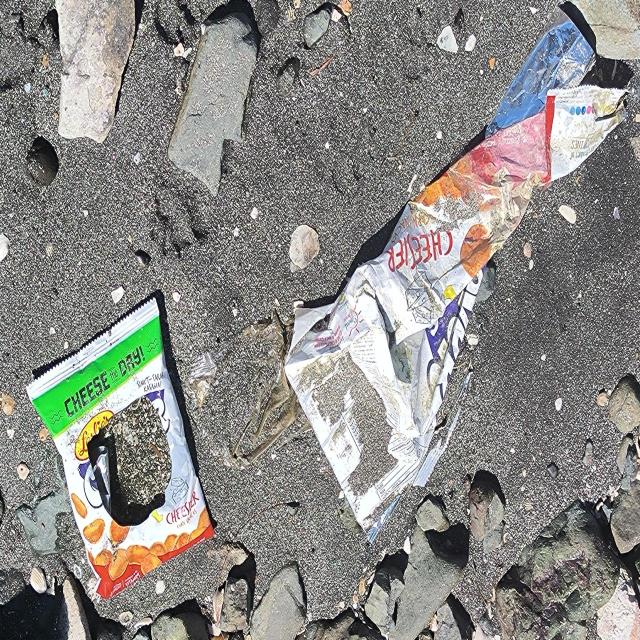plastic_waste: (283, 1, 636, 549), (26, 296, 216, 601)
